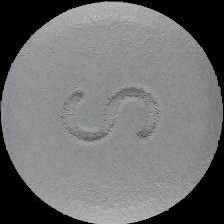68788-9313: (0, 0, 224, 224)
